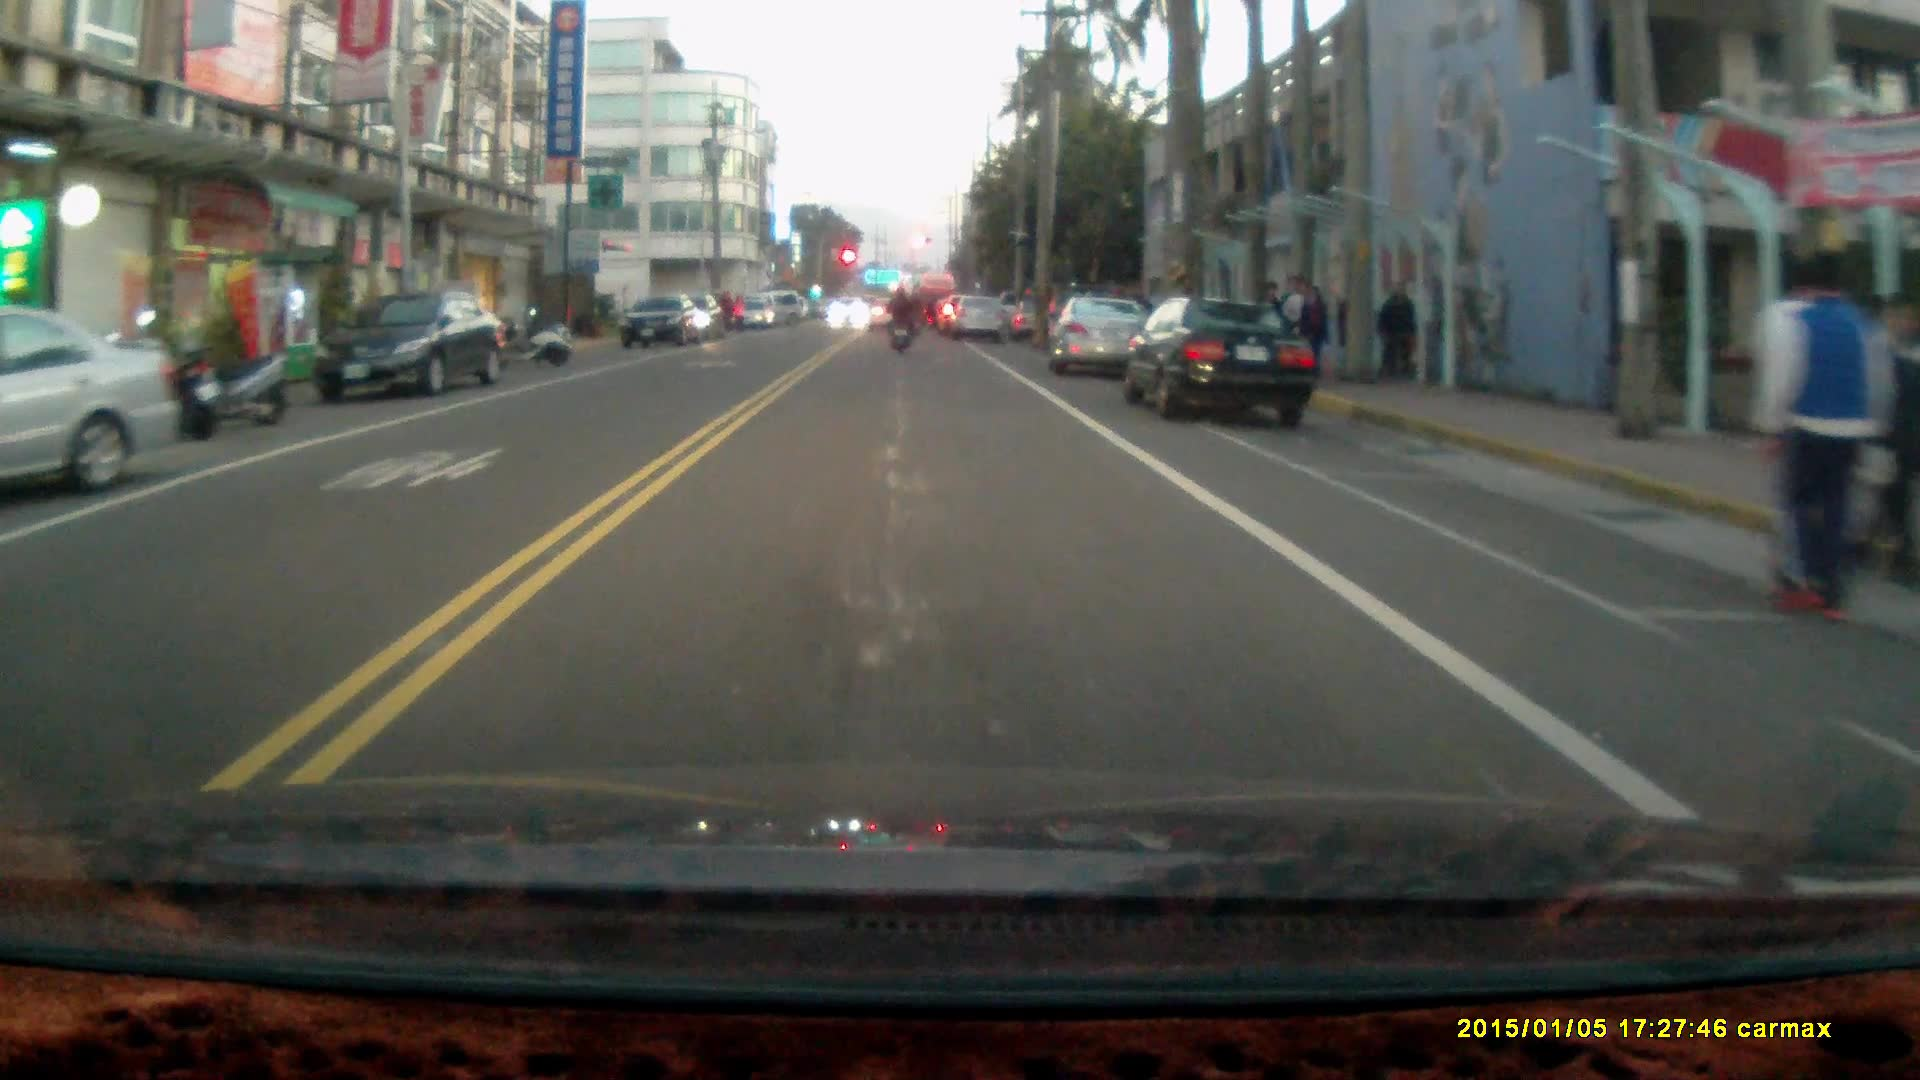pedestrian: (1747, 250, 1893, 627), (1373, 278, 1419, 386), (1291, 280, 1330, 376), (1280, 273, 1311, 372)
rider: (883, 280, 914, 352)
vehicle: (1, 308, 180, 501), (1122, 288, 1321, 424), (315, 286, 503, 400), (1048, 291, 1158, 375), (621, 297, 719, 353), (957, 291, 1012, 338)
